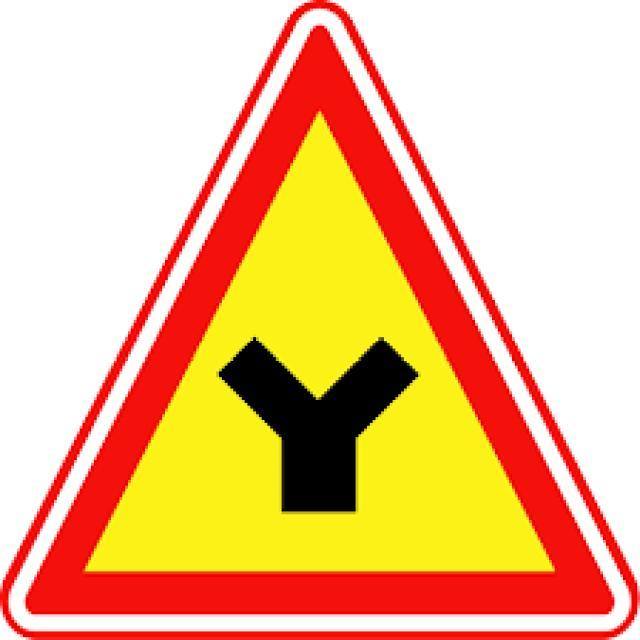y intersection: (32, 22, 614, 616)
